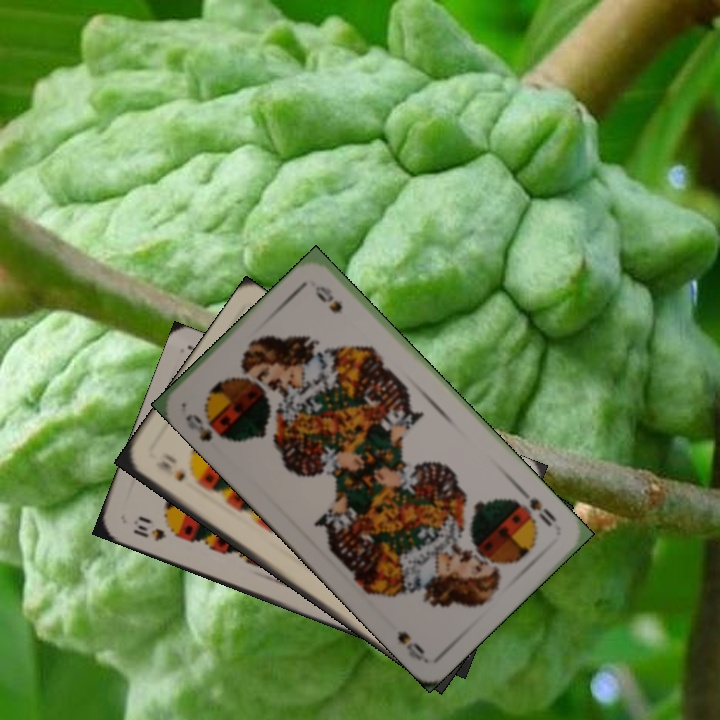S10: (152, 456, 189, 484), (129, 521, 169, 544)
SO: (511, 485, 560, 530), (181, 409, 233, 444)
